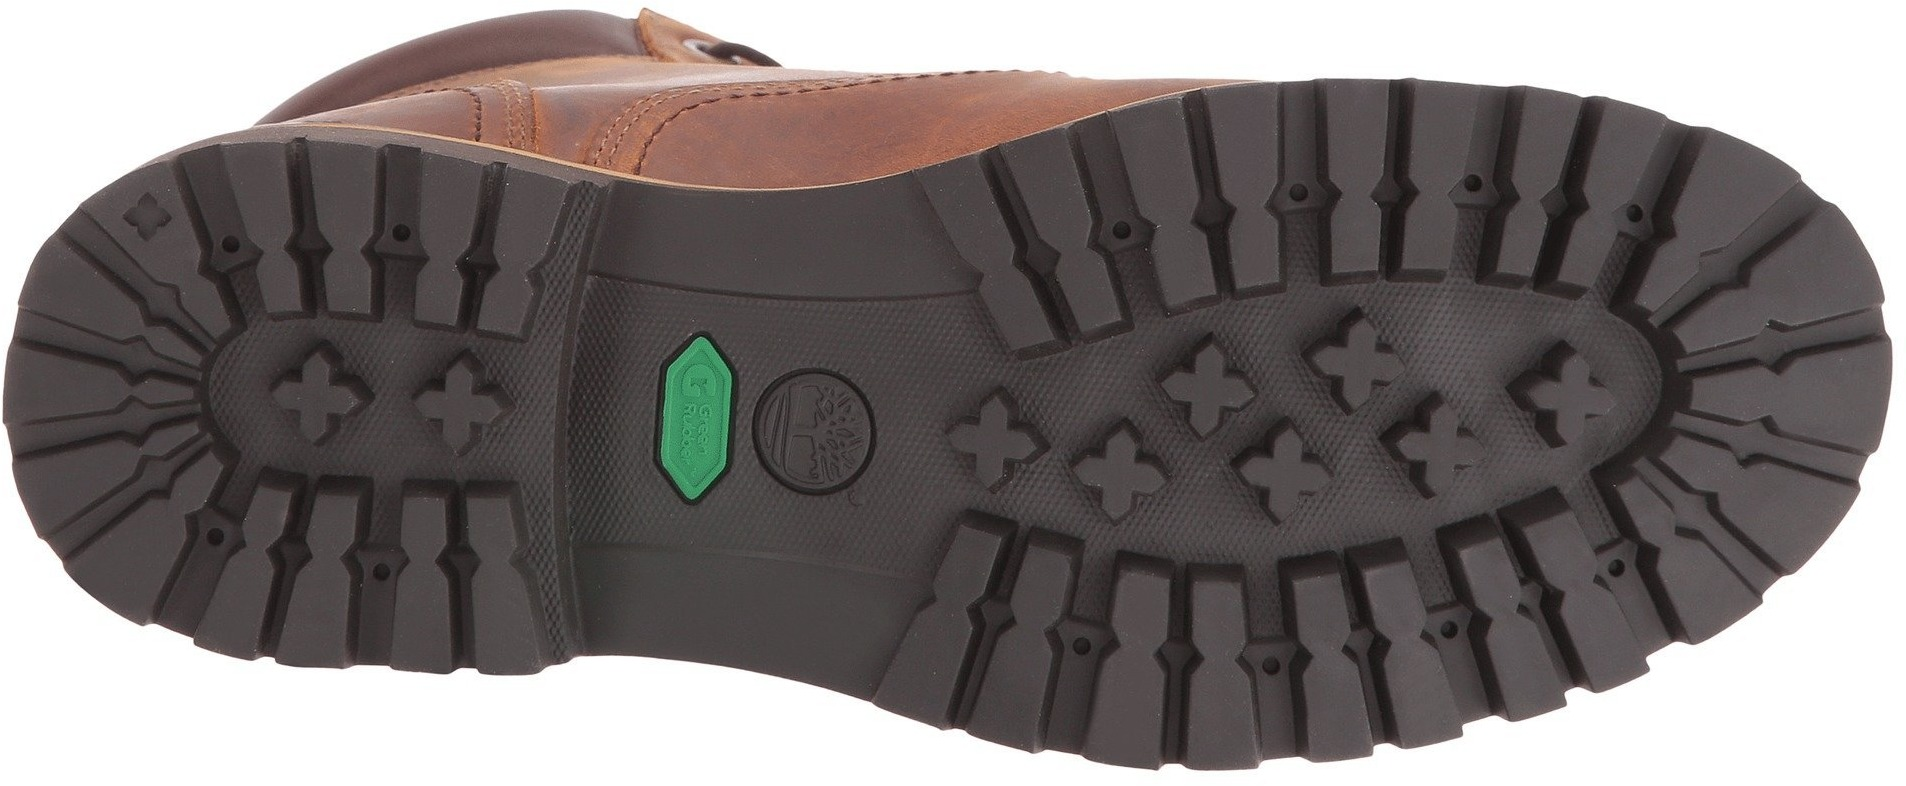bowtie: (1590, 423, 1868, 705), (1544, 66, 1801, 330), (1301, 75, 1517, 309), (1364, 526, 1580, 753), (1113, 548, 1337, 767), (30, 337, 221, 579), (100, 173, 286, 364), (1099, 118, 1278, 293), (396, 481, 559, 634), (404, 190, 568, 340)
circle: (1590, 423, 1868, 705), (1544, 66, 1801, 330), (1301, 75, 1517, 309), (1364, 526, 1580, 753), (1113, 548, 1337, 767), (100, 173, 286, 364), (744, 360, 886, 503)
line: (744, 360, 886, 503)
other: (765, 565, 882, 677), (807, 196, 913, 296)
polygon: (641, 318, 738, 513)
star: (1306, 288, 1494, 501), (1058, 327, 1252, 532), (100, 173, 286, 364), (246, 335, 390, 459), (934, 374, 1051, 504), (1526, 338, 1626, 449), (408, 354, 511, 460), (1250, 428, 1344, 525)
text: (641, 318, 738, 513)
